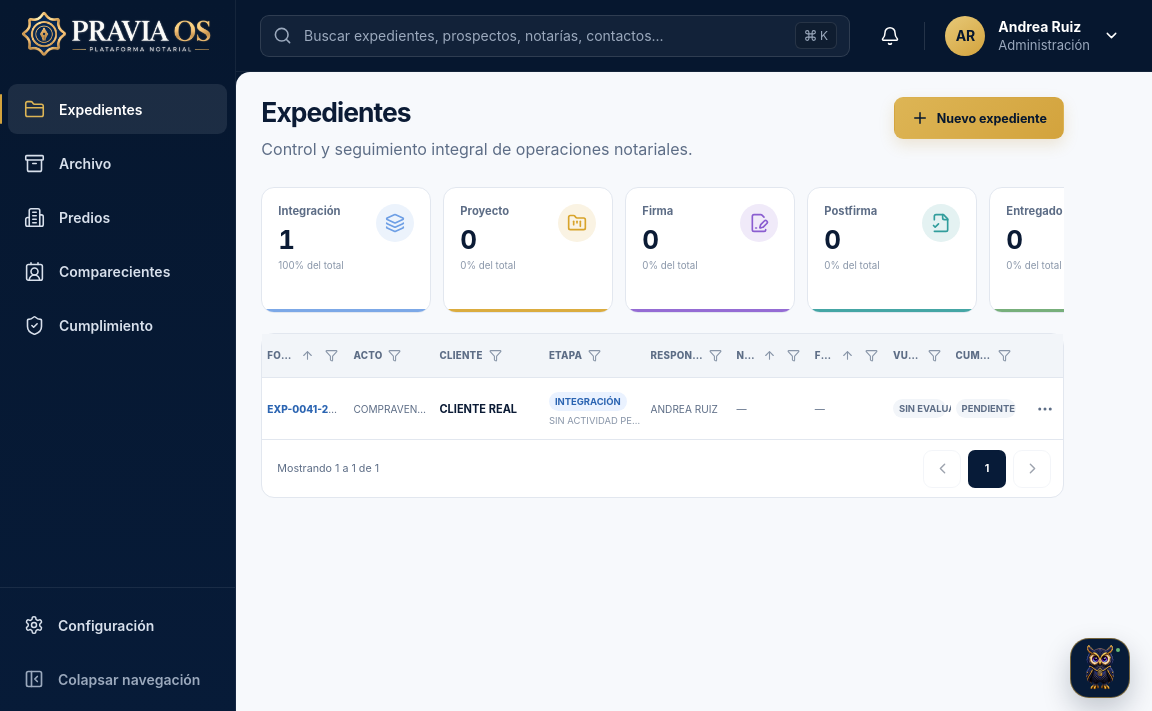
Test: Expedientes › abre expediente únicamente desde una cotización elegible y sin recaptura
Check: the table is shown, box x1=262 y1=334 x2=1063 y2=439
Click the button "Nuevo expediente". click: (979, 118)
box: x1=894 y1=97 x2=1064 y2=139
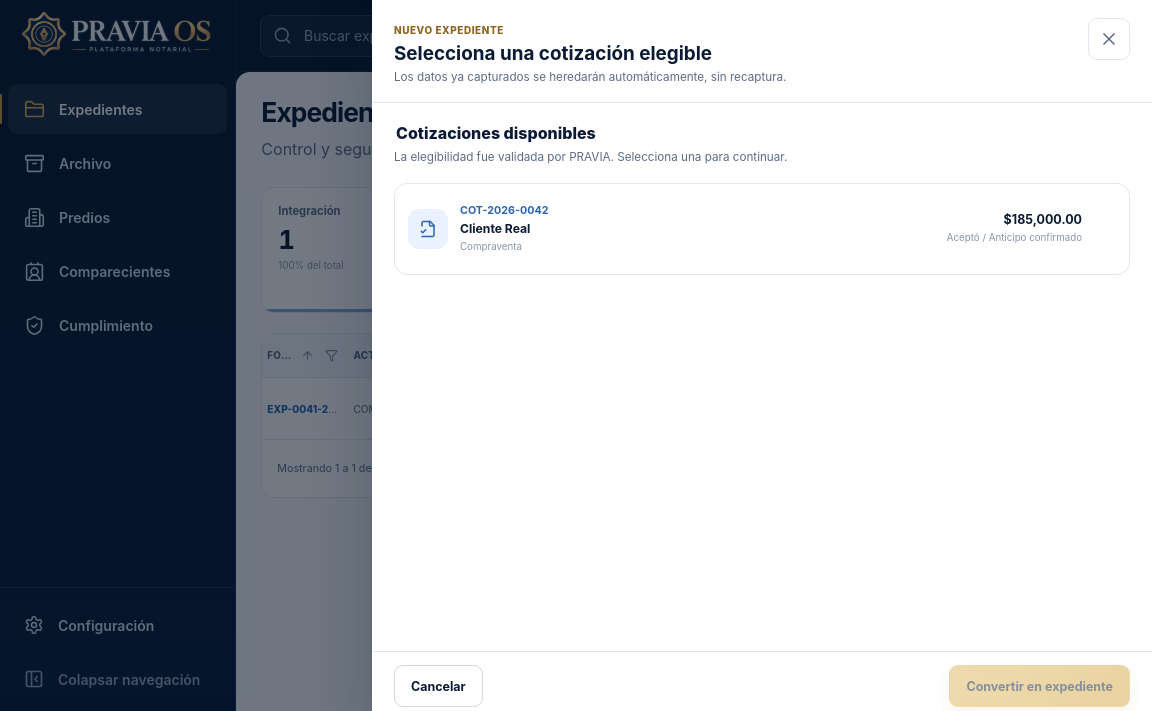
Check: the heading "Selecciona una cotización elegible" is shown, box x1=394 y1=42 x2=712 y2=65
Click the button "COT-2026-0042". click: (428, 229)
box: x1=394 y1=182 x2=1130 y2=274
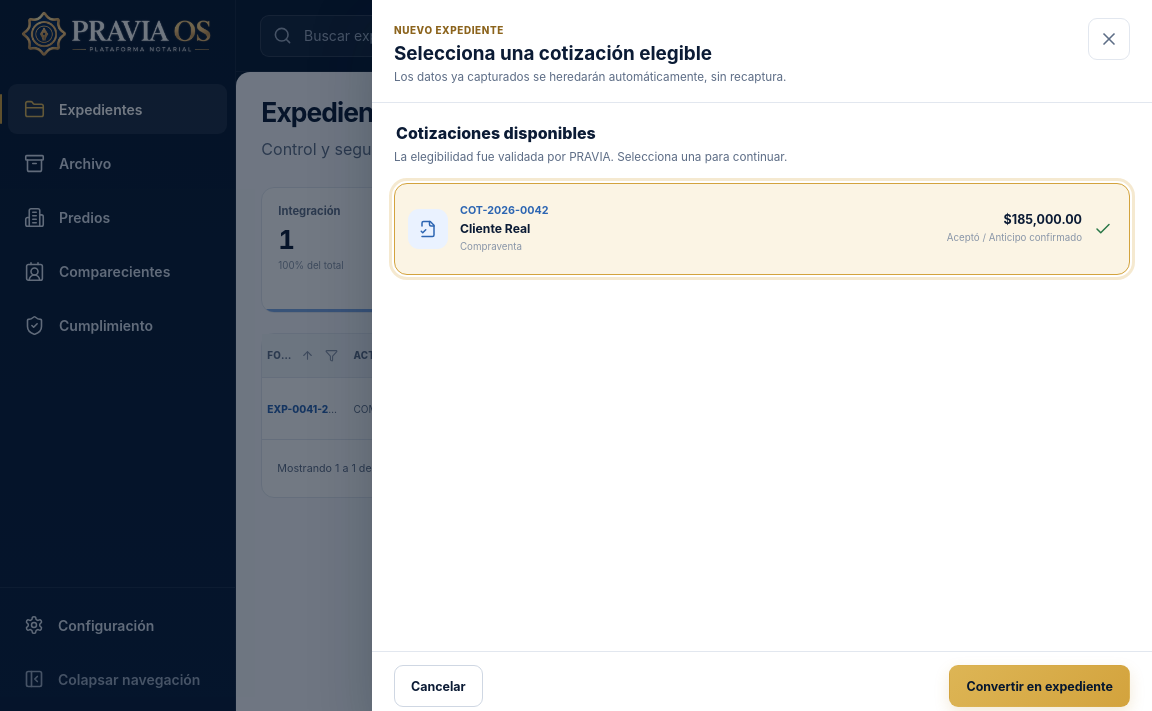
Check: the text "Aceptó / Anticipo confirmado" is shown, box x1=947 y1=231 x2=1082 y2=245
Click the button "Convertir en expediente". click: (1040, 686)
box: x1=950 y1=665 x2=1130 y2=707
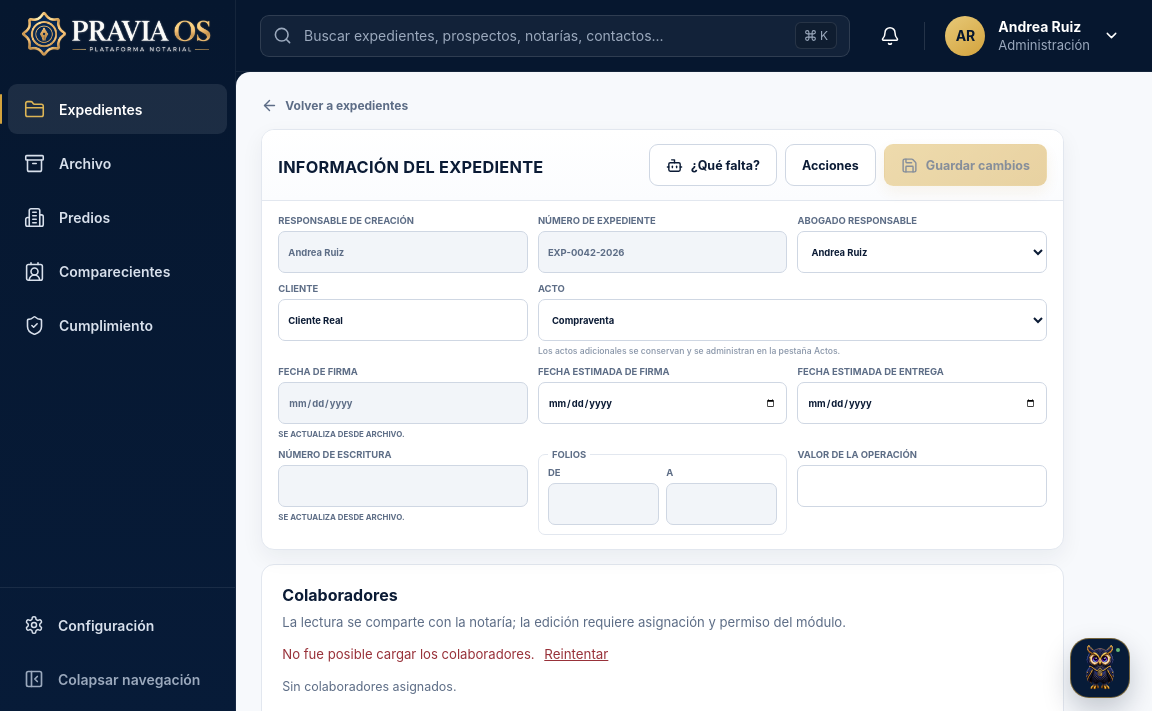
Check: the heading "Información del expediente" is shown, box x1=278 y1=157 x2=544 y2=177
